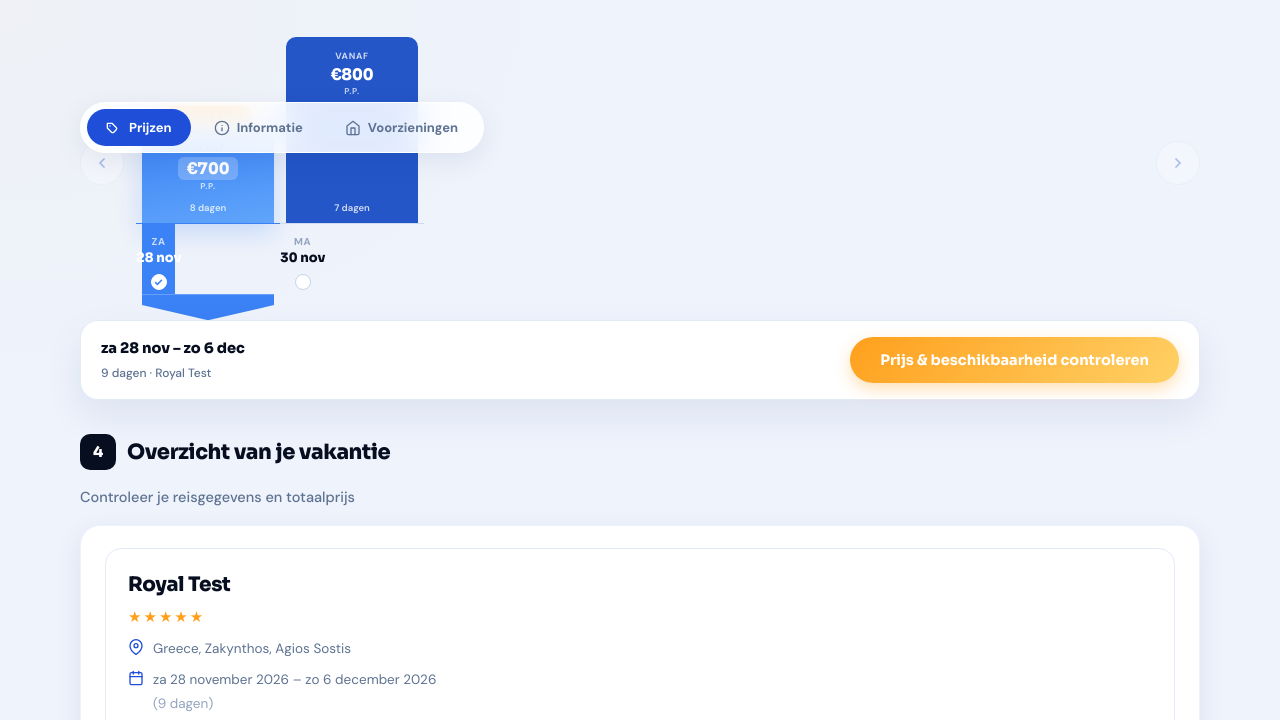
Test: the live check asks about the package the card priced › holds the package flight, not the cheaper other one: room €500 + flight €1,000
(page scrolled)
Expected: the button "Laagste prijs vanaf €700 p.p. 8 dagen za 28 nov" is shown, x1=136 y1=12 x2=280 y2=320
Click the button "Prijs & beschikbaarheid controleren". click: (1015, 360)
box: x1=850 y1=337 x2=1179 y2=383
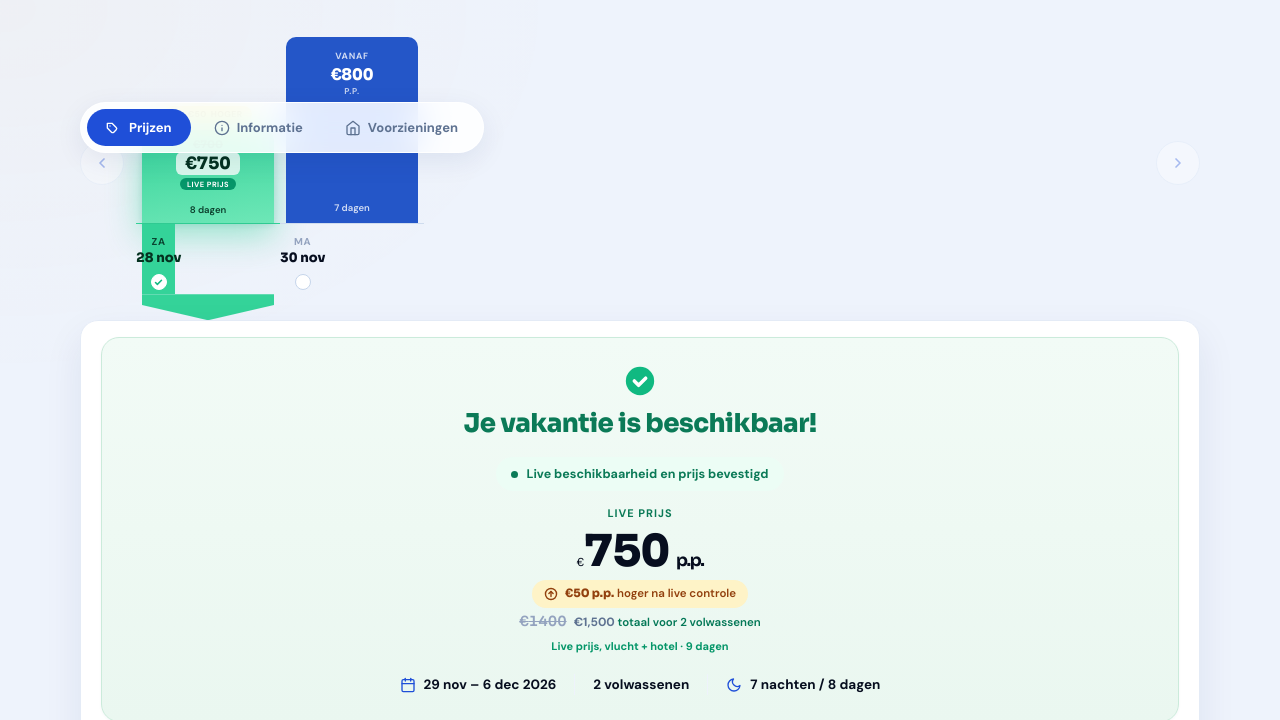
Result: the text "€1,500" is shown at x1=574 y1=614 x2=615 y2=630
Result: the text "€1400" is shown at x1=519 y1=612 x2=567 y2=630
